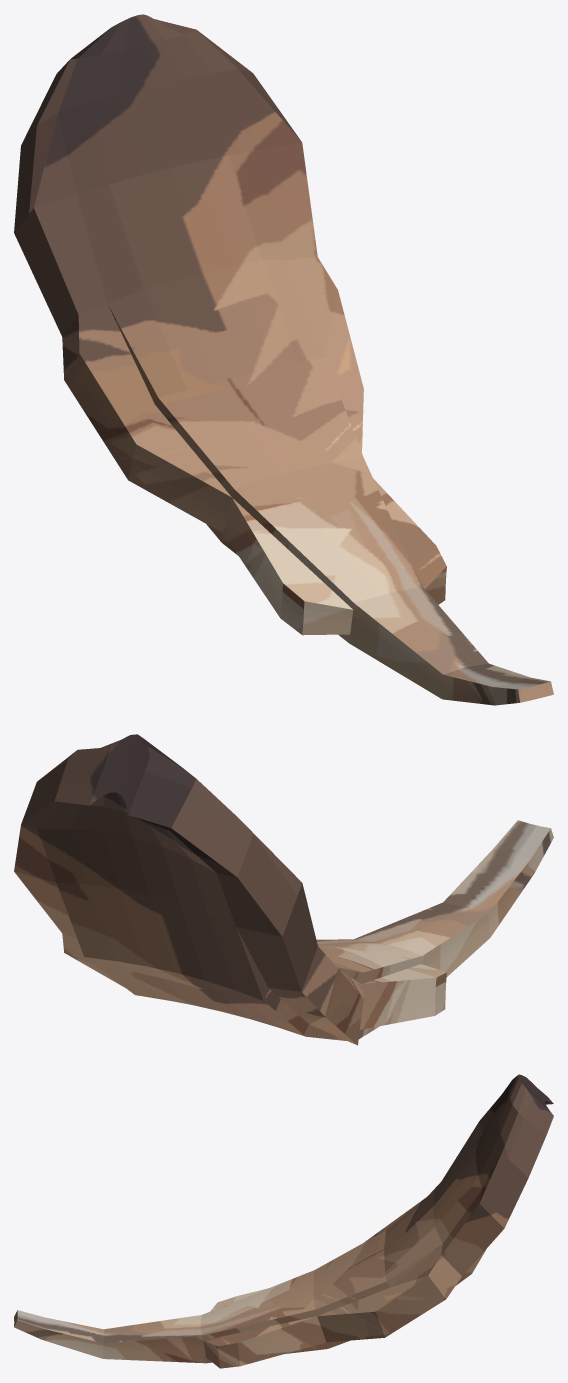
File: feather.fbx
The picture shows the model from 3 angles, top to bottom: view 1: azimuth 30°, elevation 25°; view 2: azimuth 150°, elevation 25°; view 3: azimuth 270°, elevation 25°; orthographic projection. The views are drawn at different scales.
Visible parts, largest first — view 1: Cube; view 2: Cube; view 3: Cube.
Boxes of the visible parts, bbox=[...] form: Cube: bbox=[14, 14, 553, 705]; Cube: bbox=[14, 734, 553, 1045]; Cube: bbox=[14, 1074, 553, 1368].
Bounding box in the file's own units: 71.27 × 111 × 197.
1 material, 1 textured.
